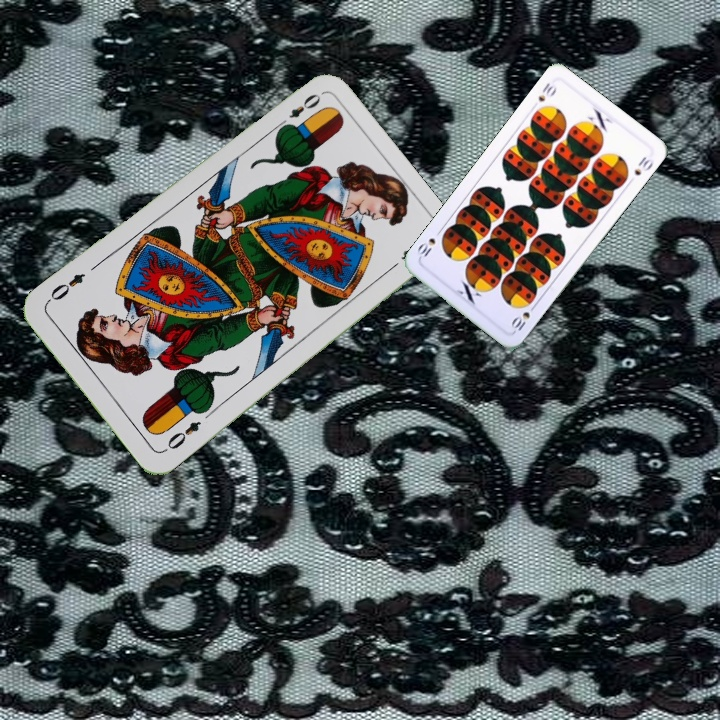EO: (273, 89, 324, 132), (159, 417, 204, 455)
S10: (507, 300, 539, 333), (534, 78, 559, 104)
